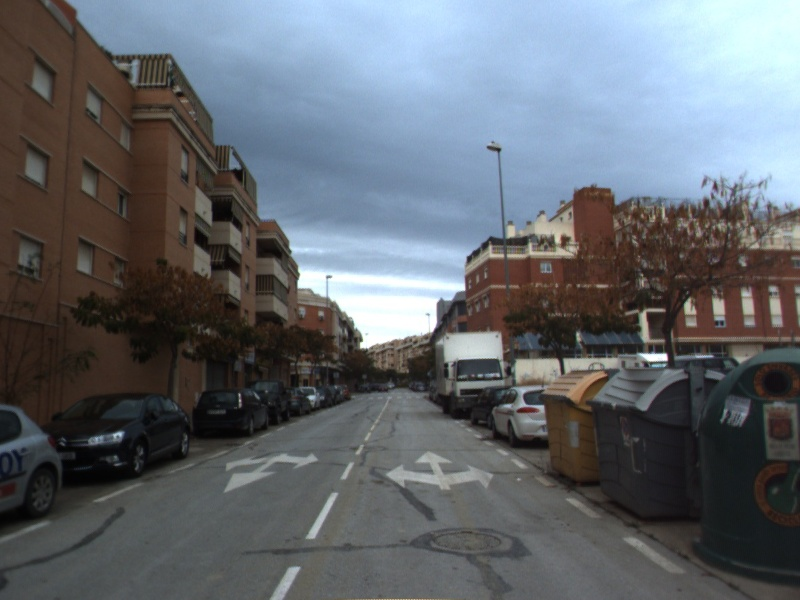STRAIGHT_LEFT_RIGHT: (383, 449, 496, 492)
